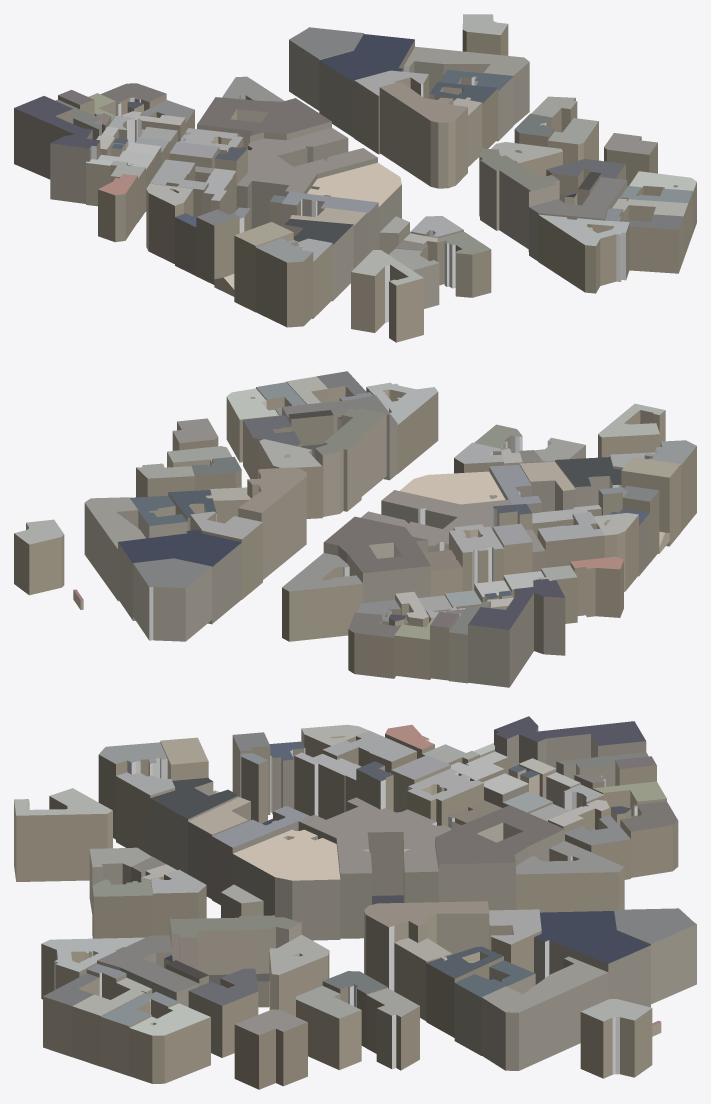
The picture shows the model from 3 angles, top to bottom: view 1: azimuth 30°, elevation 25°; view 2: azimuth 150°, elevation 25°; view 3: azimuth 270°, elevation 25°; orthographic projection. The views are drawn at different scales.
Parts seen in each view (by area): view 1: tuile; view 2: tuile; view 3: tuile.
Boxes of the visible parts, left/top/right/bottom form: tuile: left=14, top=14, right=696, bottom=342; tuile: left=14, top=371, right=696, bottom=687; tuile: left=14, top=716, right=696, bottom=1089.
Bounding box in the file's own units: 270 × 47.15 × 278.
